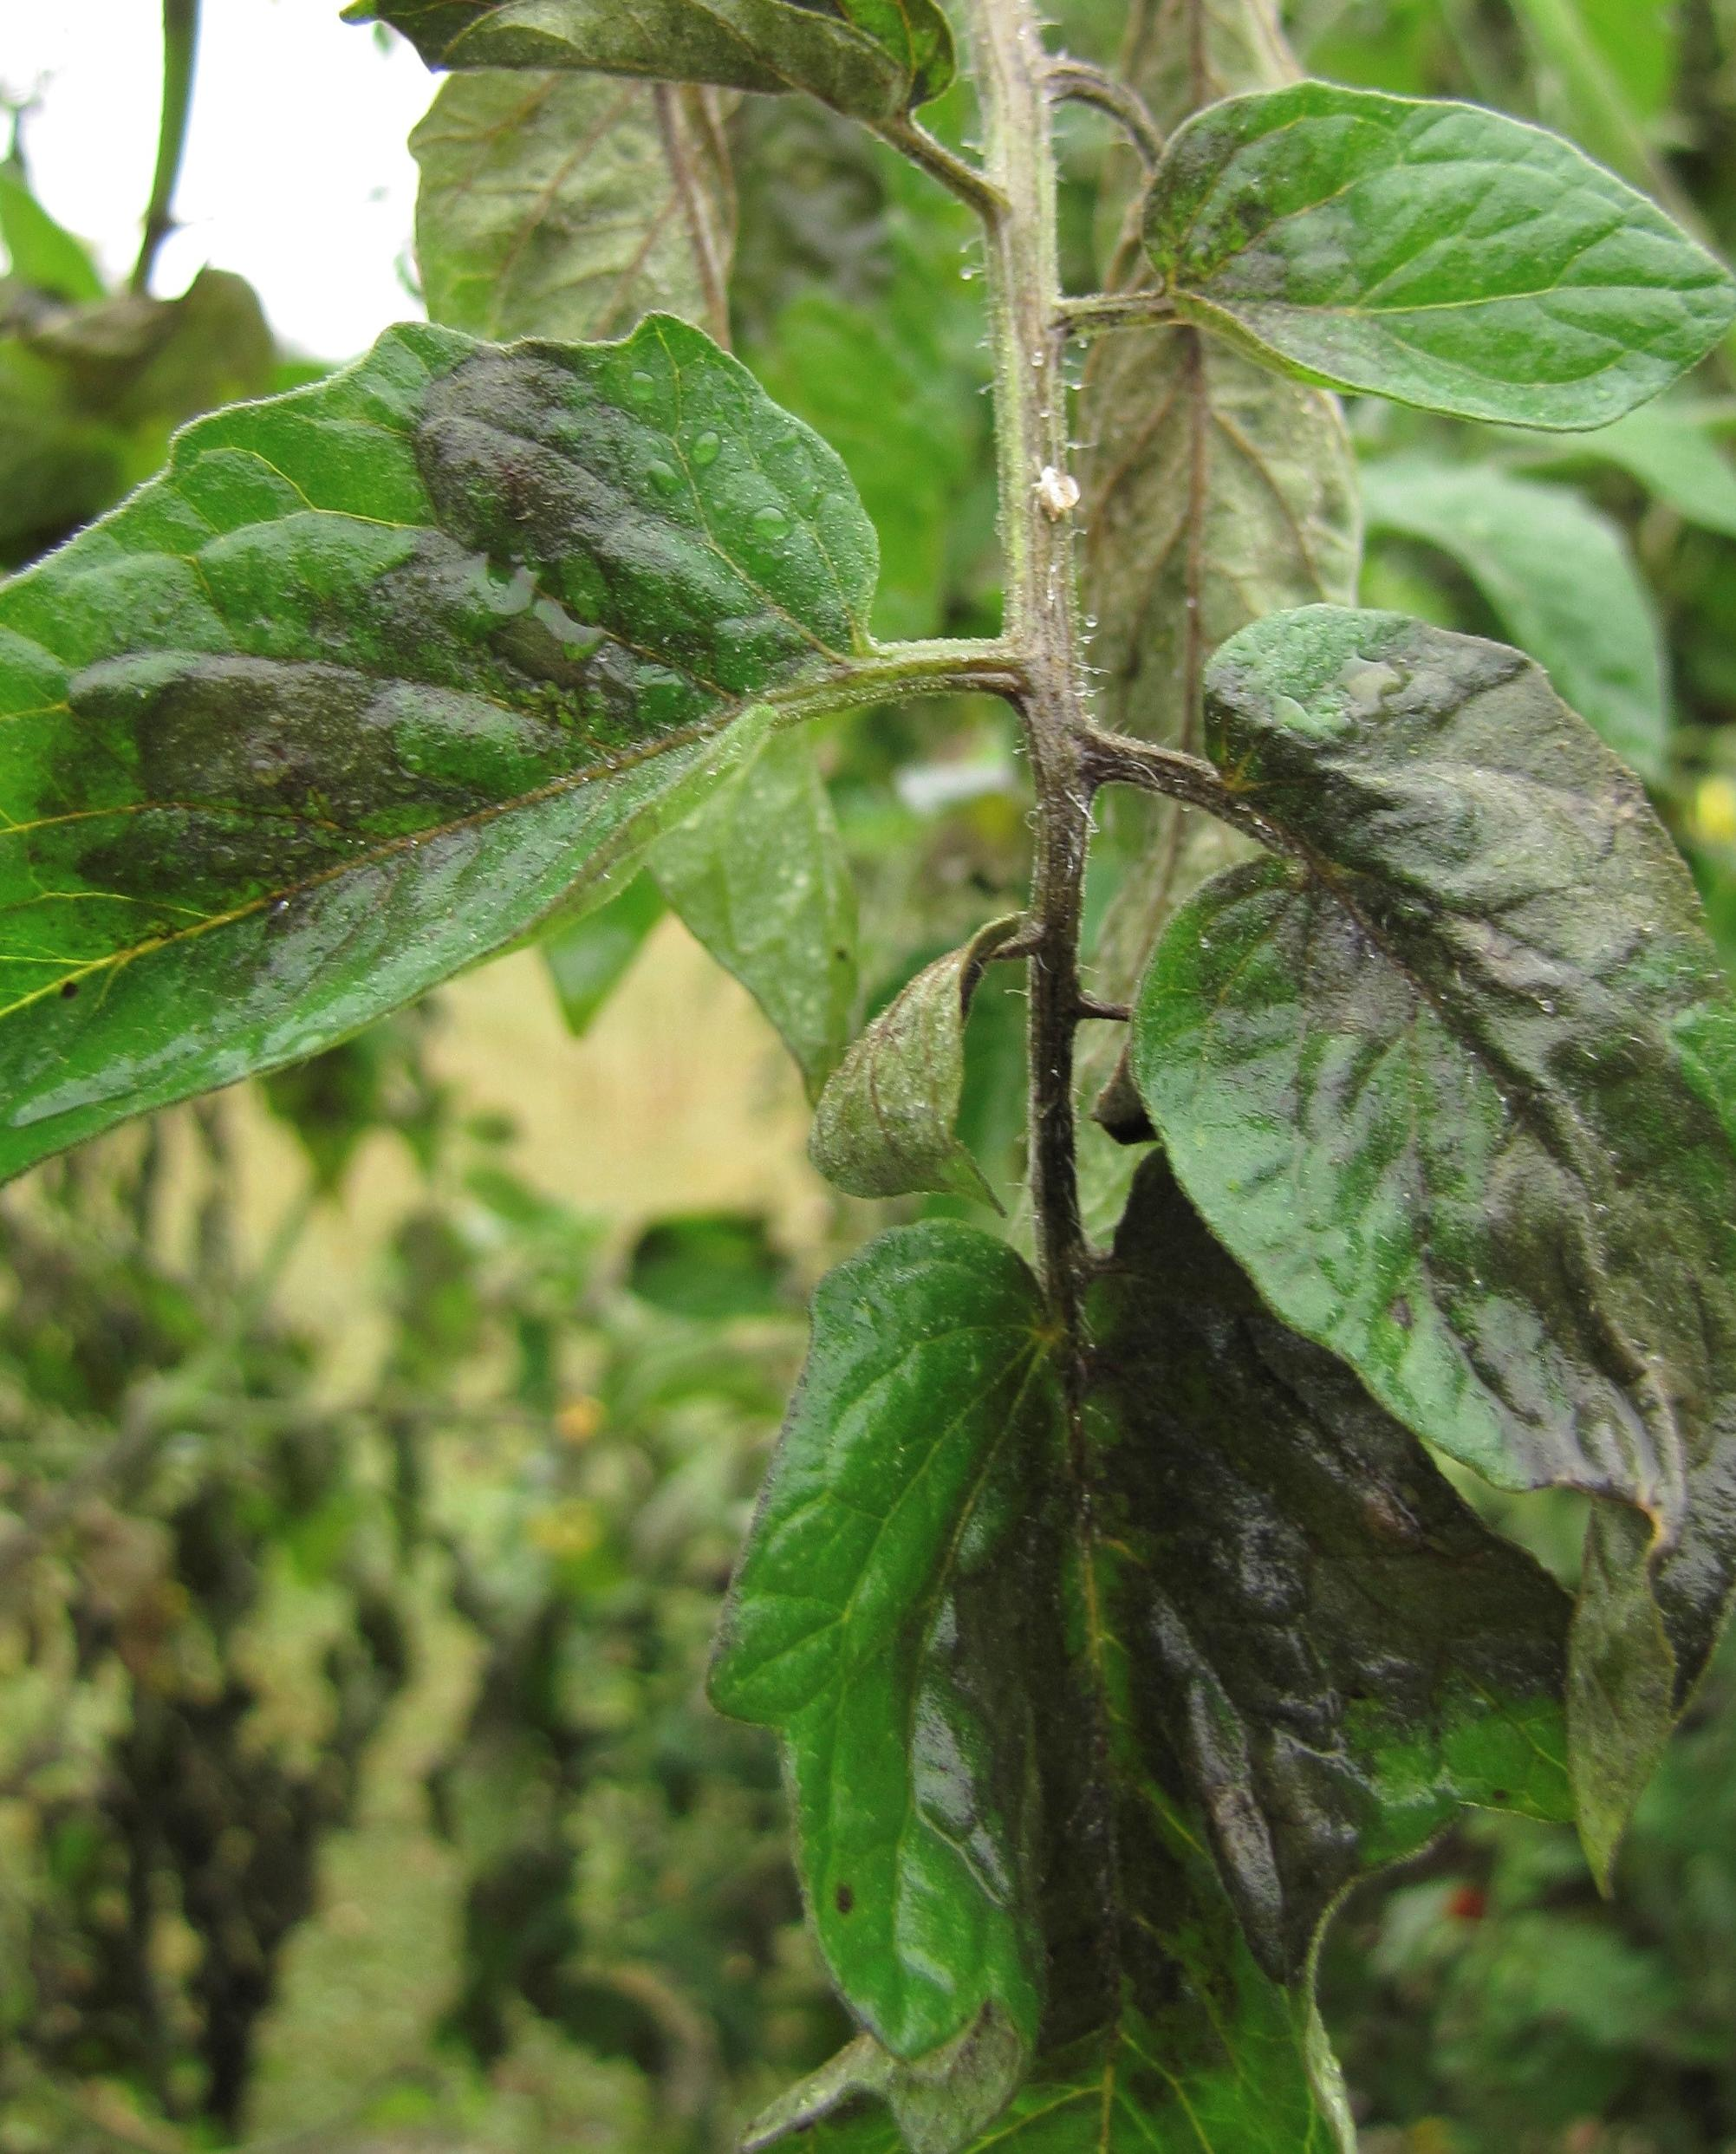Tomato leaf late blight: (0, 296, 886, 1259), (666, 1176, 1538, 2154), (1101, 619, 1736, 1831)
